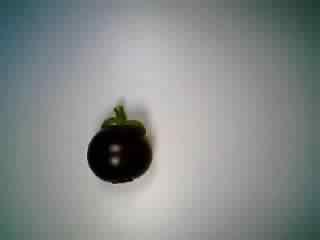mangosteen: (76, 99, 161, 183)
